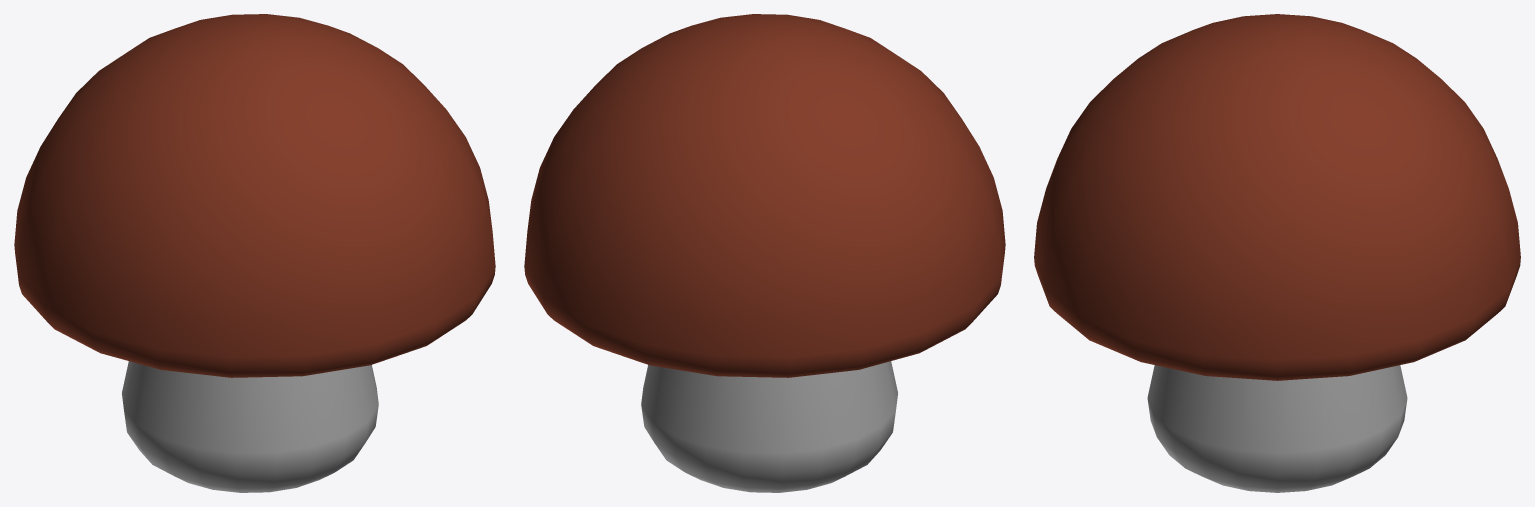
File: Mushroom.fbx
The picture shows the model from 3 angles, left to right: view 1: azimuth 30°, elevation 25°; view 2: azimuth 150°, elevation 25°; view 3: azimuth 270°, elevation 25°; orthographic projection.
Visible parts, largest first — view 1: pSphere1, pCylinder2; view 2: pSphere1, pCylinder2; view 3: pSphere1, pCylinder2.
Boxes of the visible parts, <box> form: pSphere1: <box>14,14,495,377</box>; pCylinder2: <box>122,361,378,492</box>; pSphere1: <box>524,14,1005,377</box>; pCylinder2: <box>641,361,897,492</box>; pSphere1: <box>1034,14,1520,380</box>; pCylinder2: <box>1147,365,1407,492</box>.
Bounding box in the file's own units: 1.65 × 1.58 × 1.65.
